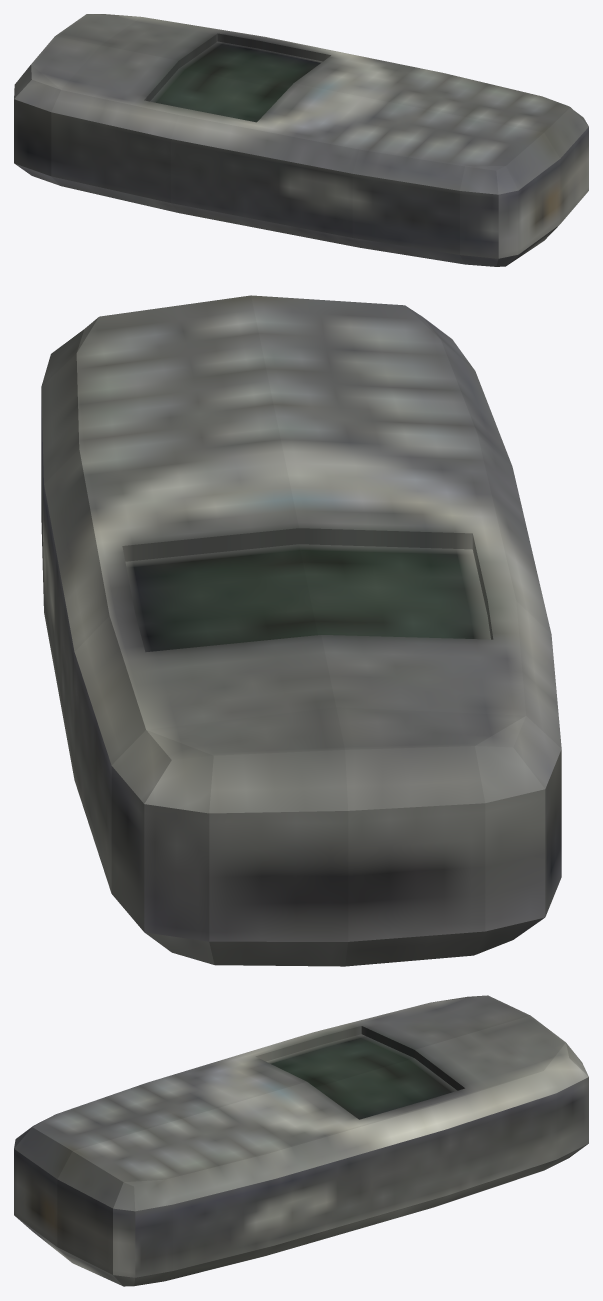
The picture shows the model from 3 angles, top to bottom: view 1: azimuth 30°, elevation 25°; view 2: azimuth 150°, elevation 25°; view 3: azimuth 270°, elevation 25°; orthographic projection. The views are drawn at different scales.
Parts seen in each view (by area): view 1: cell_phone_1; view 2: cell_phone_1; view 3: cell_phone_1.
Part boxes in pixels (x1,y1,x2,y2): cell_phone_1: (14, 14, 588, 266); cell_phone_1: (41, 295, 561, 966); cell_phone_1: (14, 995, 588, 1286).
Size of the model in its own units: 0.1918 by 0.0486 by 0.2257.
1 material, 1 textured.
